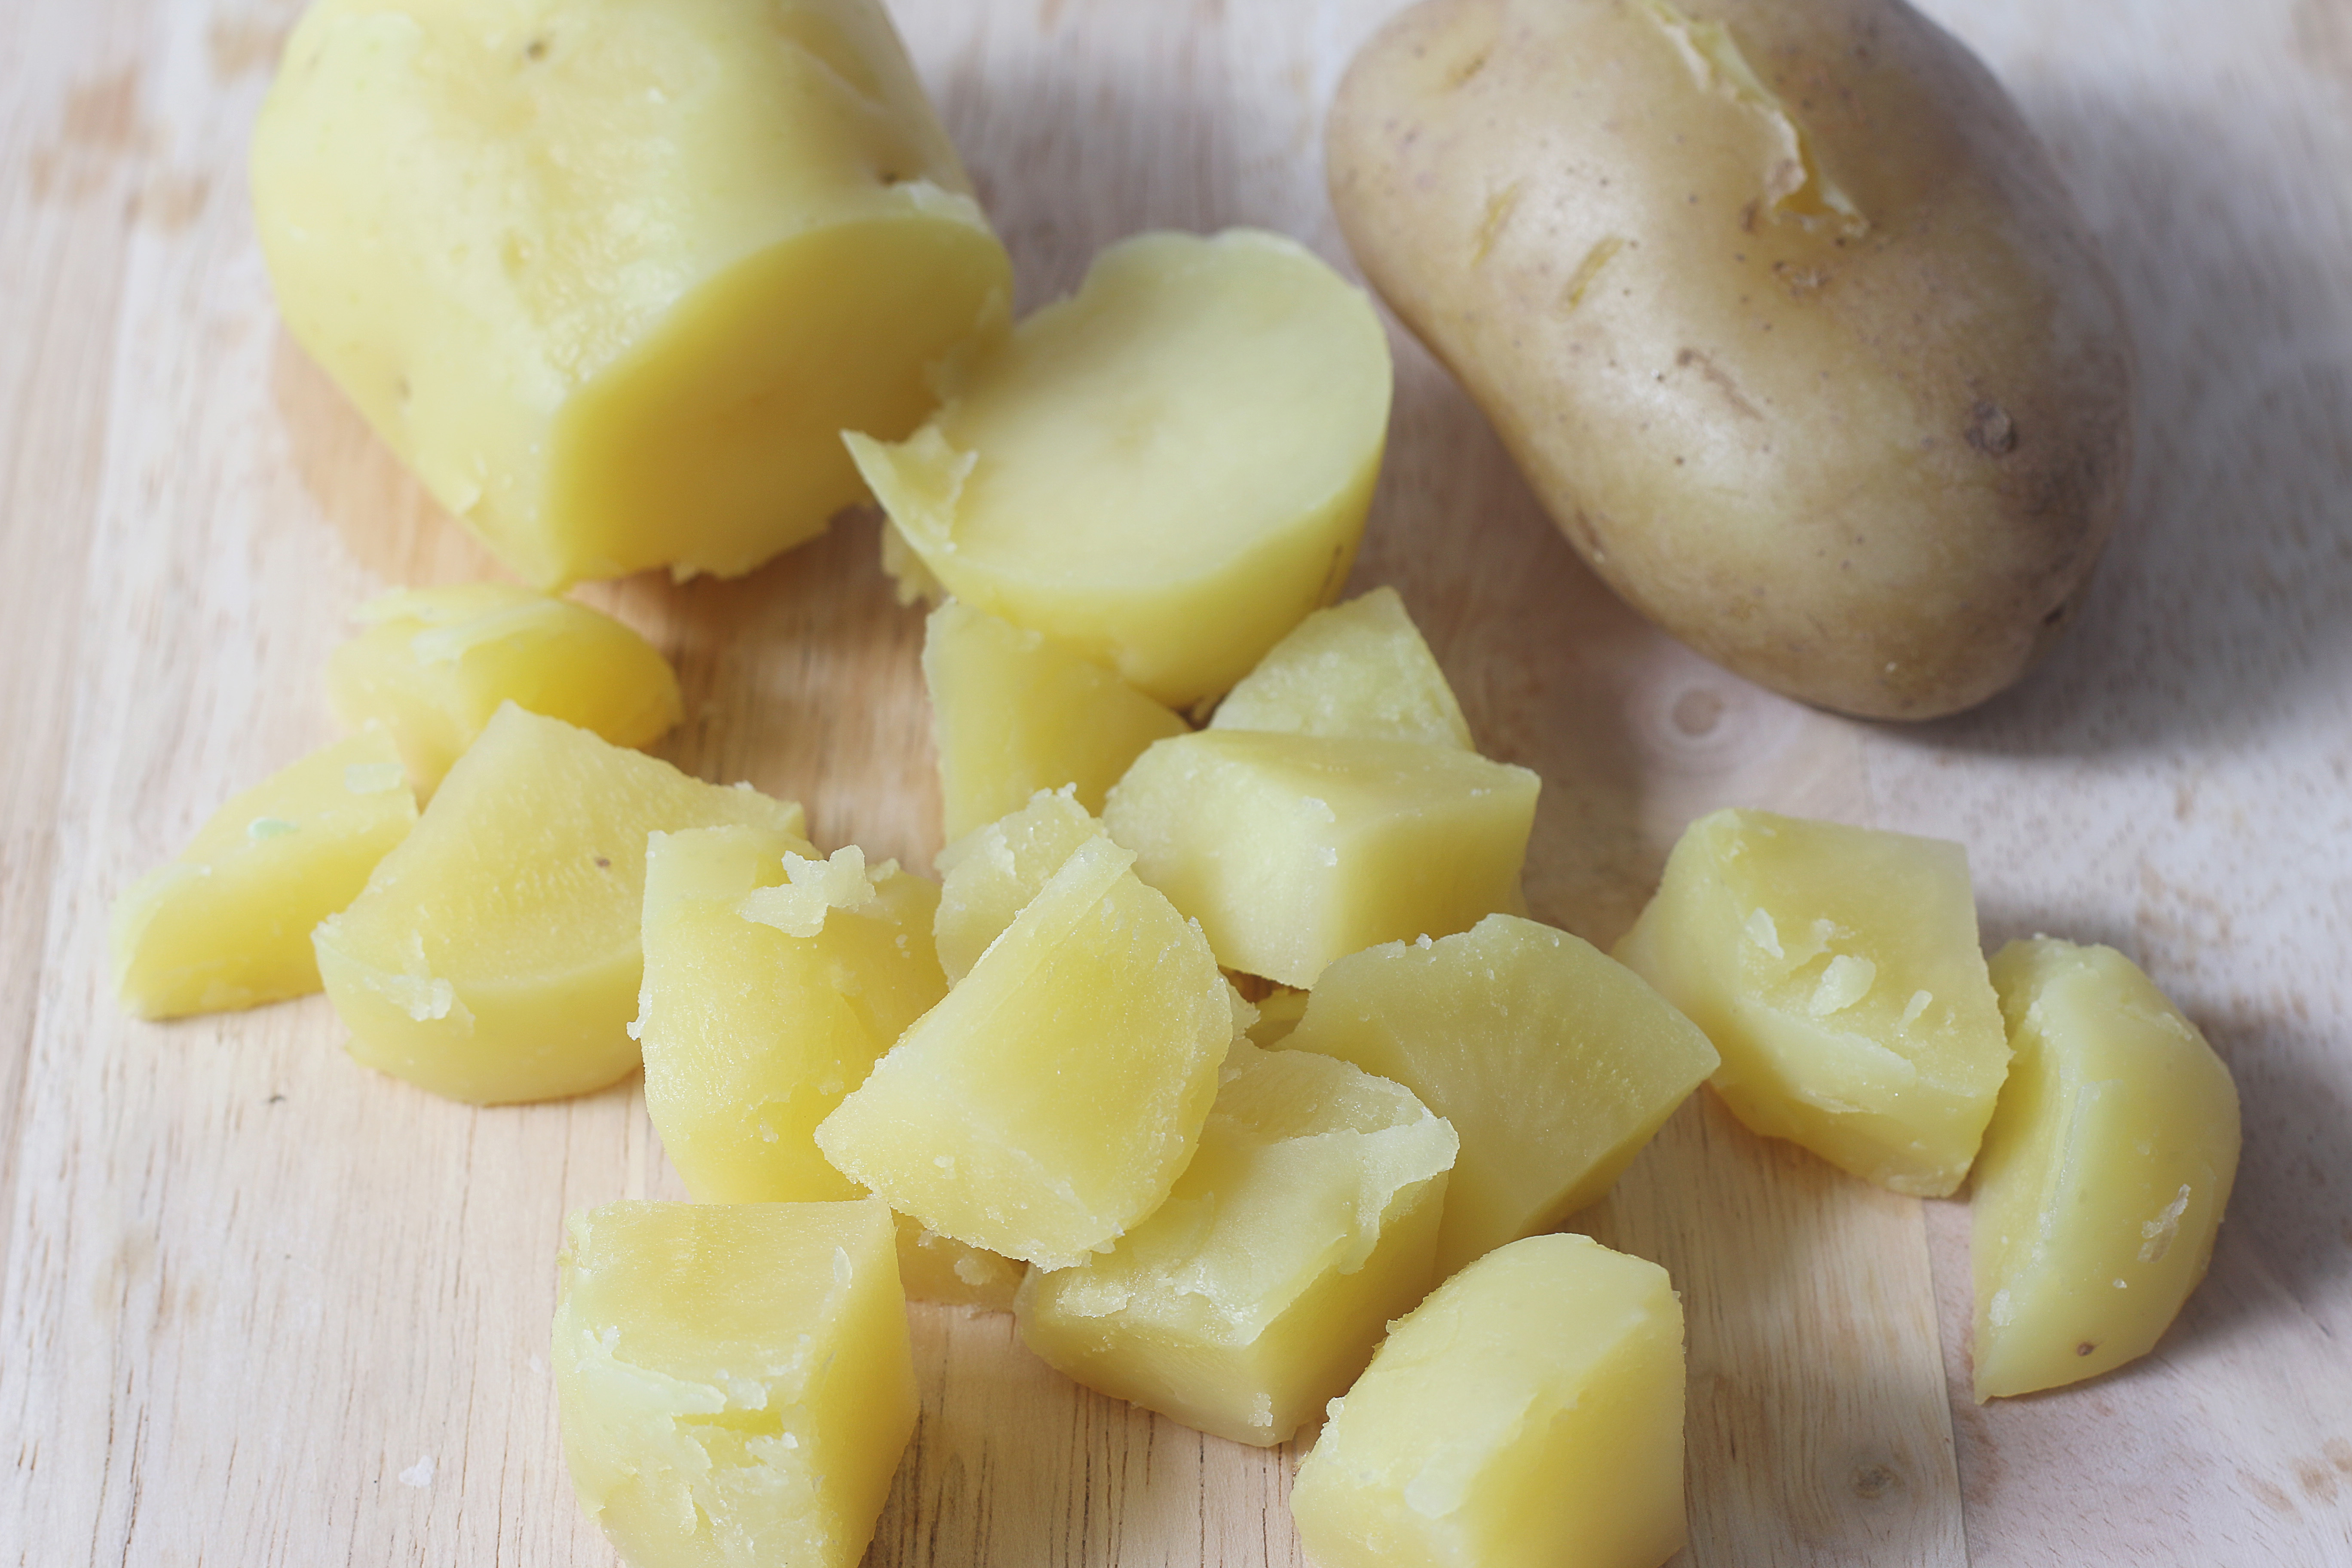boiled potatoes: (444, 101, 1526, 1515)
